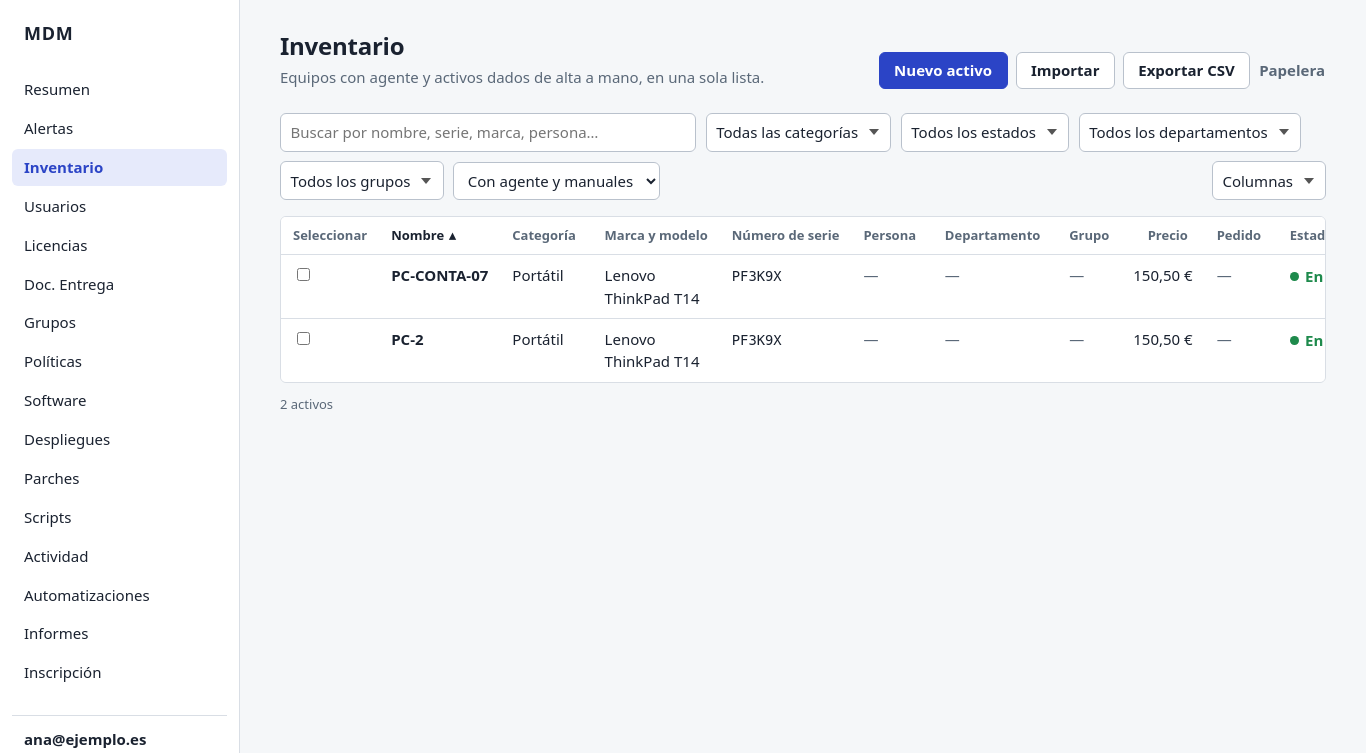
Test: Acciones desde el listado › seleccionar equipos muestra la barra de acciones según el rol
Click the checkbox named "Seleccionar PC-CONTA-07" at (304, 275), box [297, 268, 310, 281]
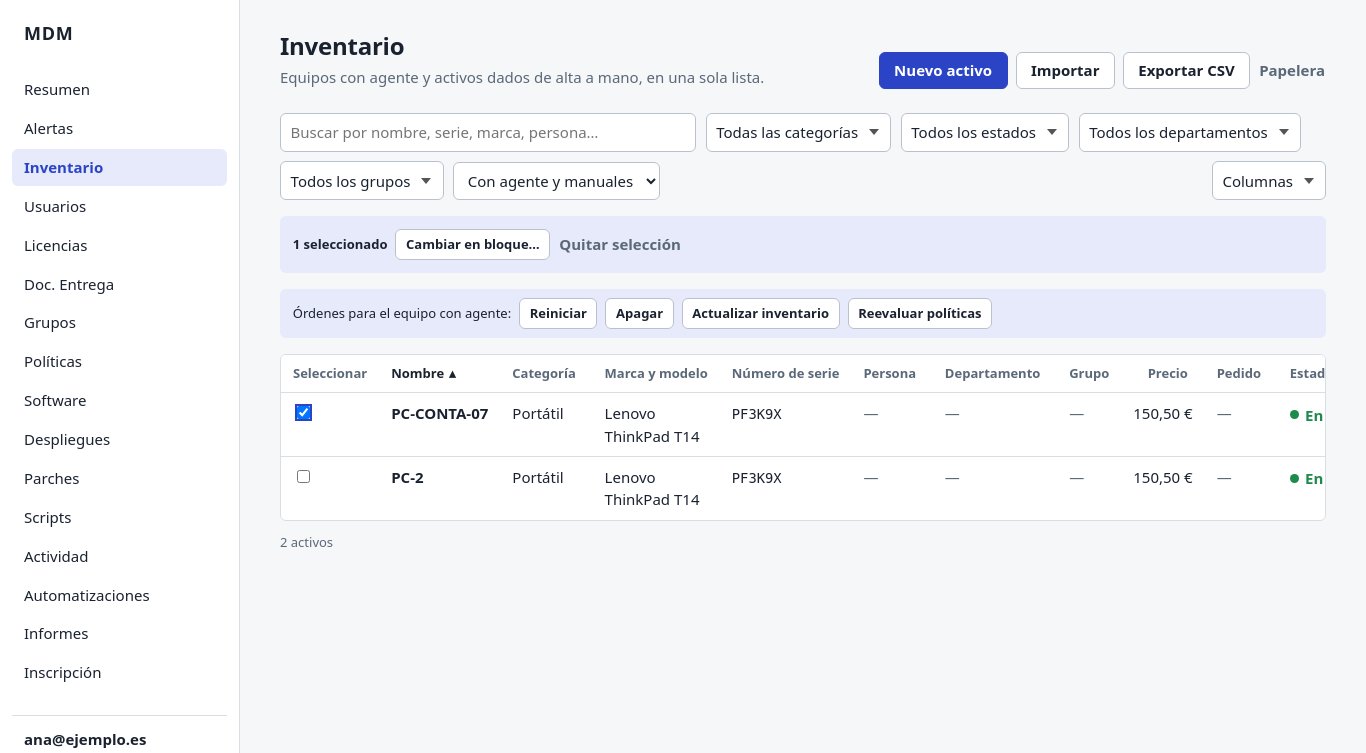
Now the text "1 seleccionado" is shown, box [293, 235, 388, 253]
Now the button "Reiniciar" is shown, box [519, 298, 598, 329]
